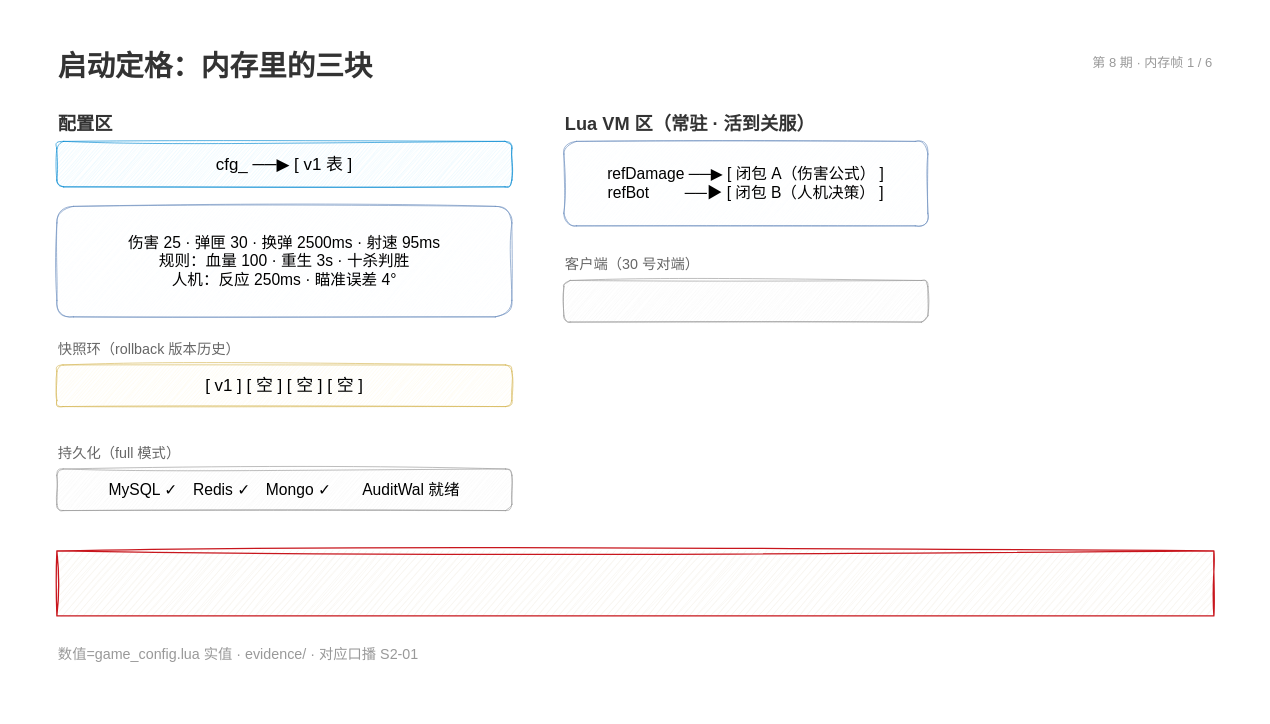
Image size: 1270x724. Some labels were removed from this diagram. Here are the shapes that lost their labels. From the top down, the centre of each, then its label:
At point (745, 301): "RuntimeParams：武器[0] 伤害 = 25".
At point (635, 583): "启动 = 规则定格成内存结构 —— 它不动，游戏就不变".
